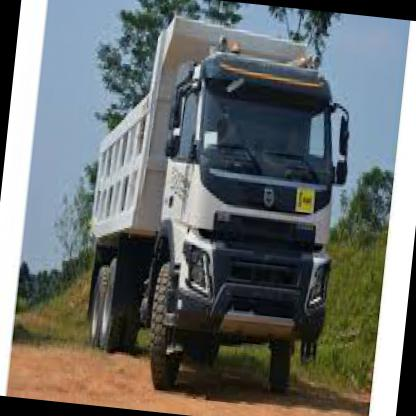truck: (141, 48, 349, 394)
